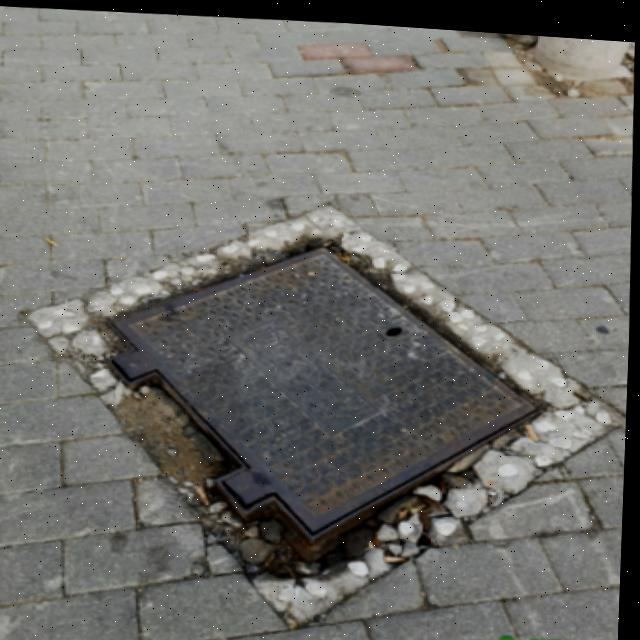manhole: (35, 201, 573, 597)
